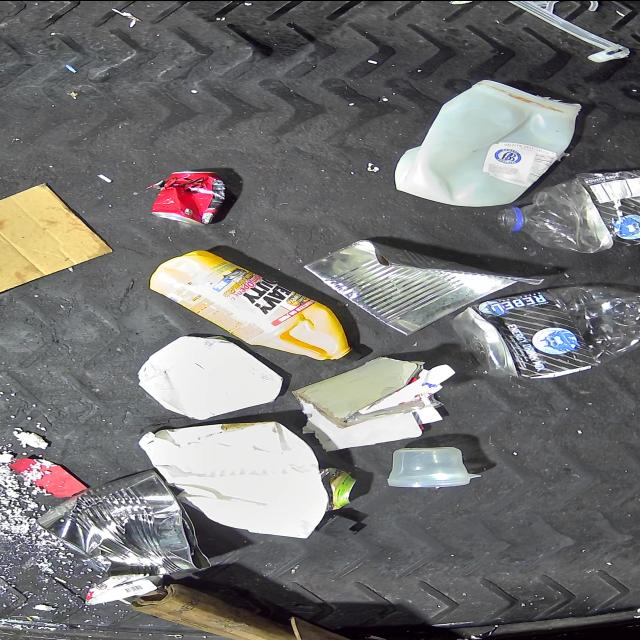can: (36, 472, 216, 584), (149, 170, 226, 226), (322, 466, 356, 506)
milk_jug: (396, 79, 584, 207)
non_white_jug: (146, 253, 362, 365)
plastic_bottle: (449, 284, 640, 378), (498, 168, 640, 252)
